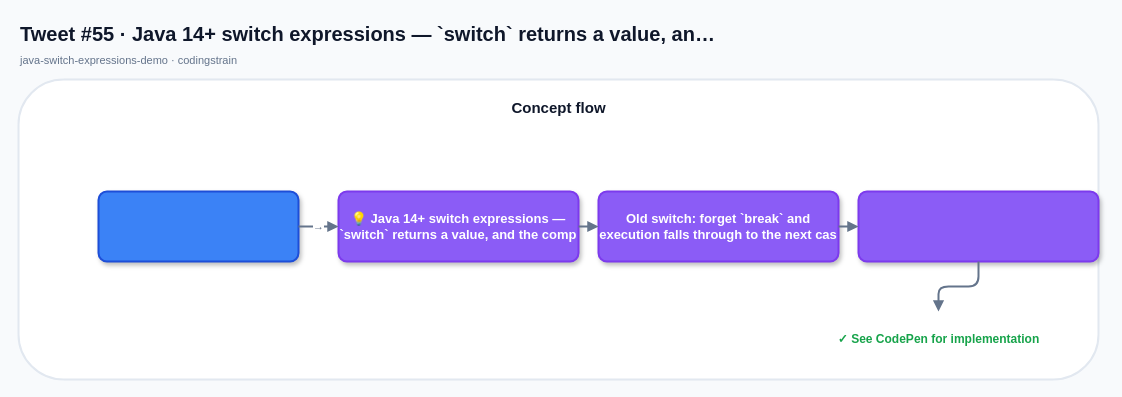
Some shapes in this 1122 by 397 pixel diagram are drawn without their labels. The shapes that lost their labels are listed below. From the top down, each one's centre as x and y in pixels, then its label:
point 199,227: Problem / context
point 979,227: New `case X -> "..."`: one line per case, returns a value, no `break`
